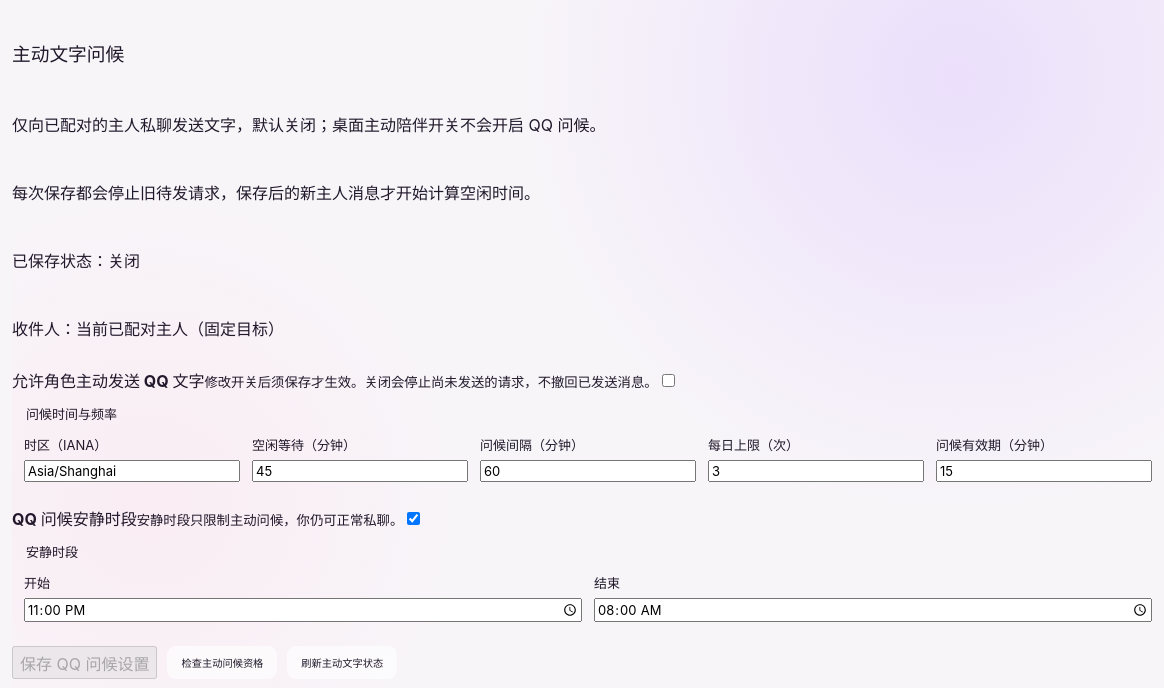
Test: QQ proactive operator panel › rejects invalid draft 每日上限（次） without a write
The width and height of the screenshot is (1164, 688).
Expected: the switch labelled "允许角色主动发送 QQ 文字" is enabled, [662, 374, 675, 387]
Clear the number field labelled "每日上限（次）" at (816,471), box [708, 460, 924, 482]
(page scrolled)
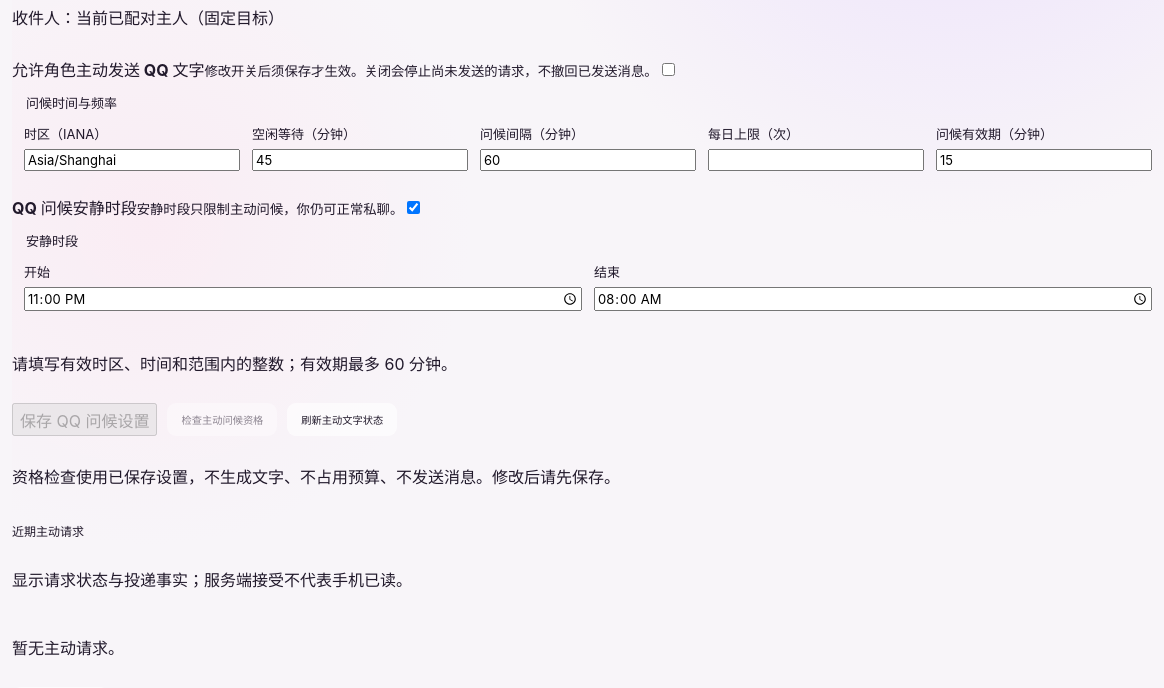
Expected: the button "保存 QQ 问候设置" is disabled, [12, 403, 158, 436]
Result: the button "检查主动问候资格" is disabled at [168, 403, 277, 436]
